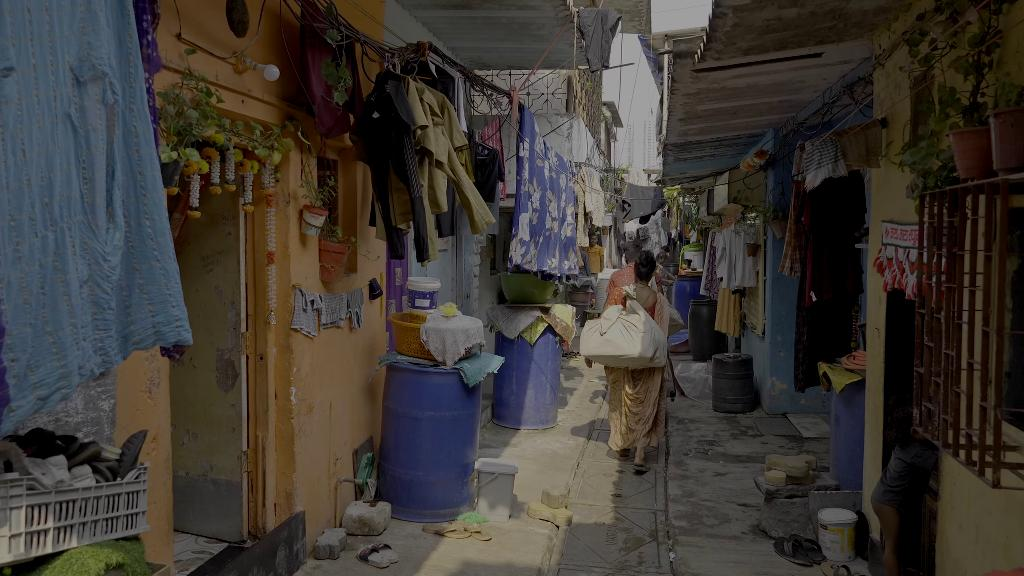dustbin: (470, 456, 519, 527)
